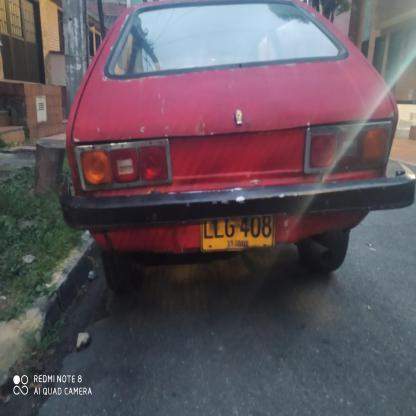placa: (195, 213, 279, 255)
